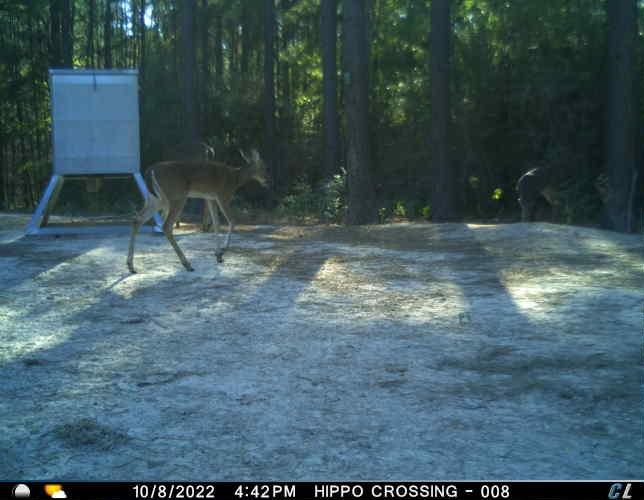Deer: (125, 144, 272, 276)
